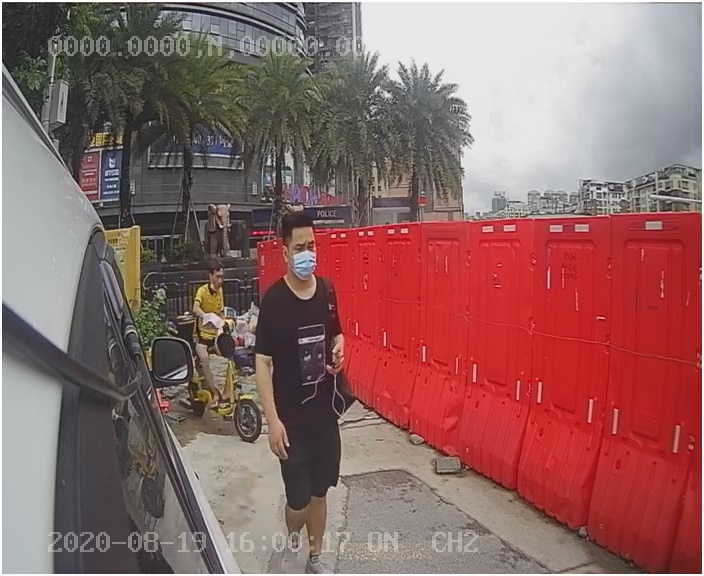person: (237, 206, 385, 529)
